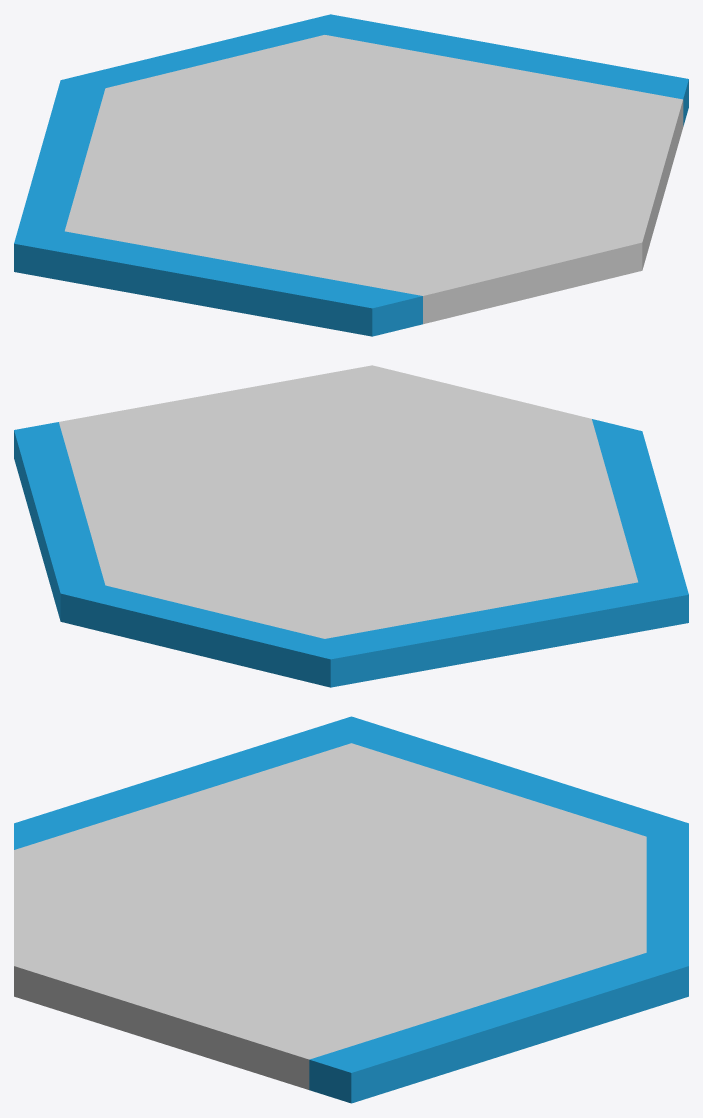
3 renders of one model, top to bottom at view 1: azimuth 30°, elevation 25°; view 2: azimuth 150°, elevation 25°; view 3: azimuth 270°, elevation 25°, orthographic. The views are drawn at different scales.
Parts seen in each view (by area): view 1: Hexagon, SW.001, NE.001, NWx.001, Nx; view 2: Hexagon, NWx.001, Nx, NE.001, SW.001; view 3: Hexagon, NE.001, SW.001, NWx.001, Nx.
Part boxes in pixels (box(x1,y1,x2,y2)): Hexagon: box(65, 35, 683, 324); SW.001: box(14, 231, 422, 336); NE.001: box(325, 14, 688, 126); NWx.001: box(14, 80, 105, 243); Nx: box(61, 14, 330, 88); Hexagon: box(59, 365, 637, 638); NWx.001: box(325, 582, 688, 687); Nx: box(60, 585, 330, 687); NE.001: box(14, 422, 104, 620); SW.001: box(592, 419, 688, 594); Hexagon: box(14, 743, 646, 1089); NE.001: box(309, 952, 688, 1103); SW.001: box(14, 716, 351, 849); NWx.001: box(351, 716, 688, 836); Nx: box(646, 823, 688, 965).
Size of the model in its own units: 5 by 4 by 0.2.
